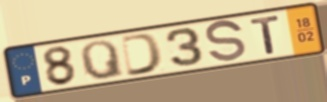3: (163, 27, 206, 68)
8: (41, 45, 79, 87)
D: (119, 31, 165, 78)
Q: (78, 39, 127, 82)
S: (204, 18, 249, 65)
T: (248, 13, 283, 56)
